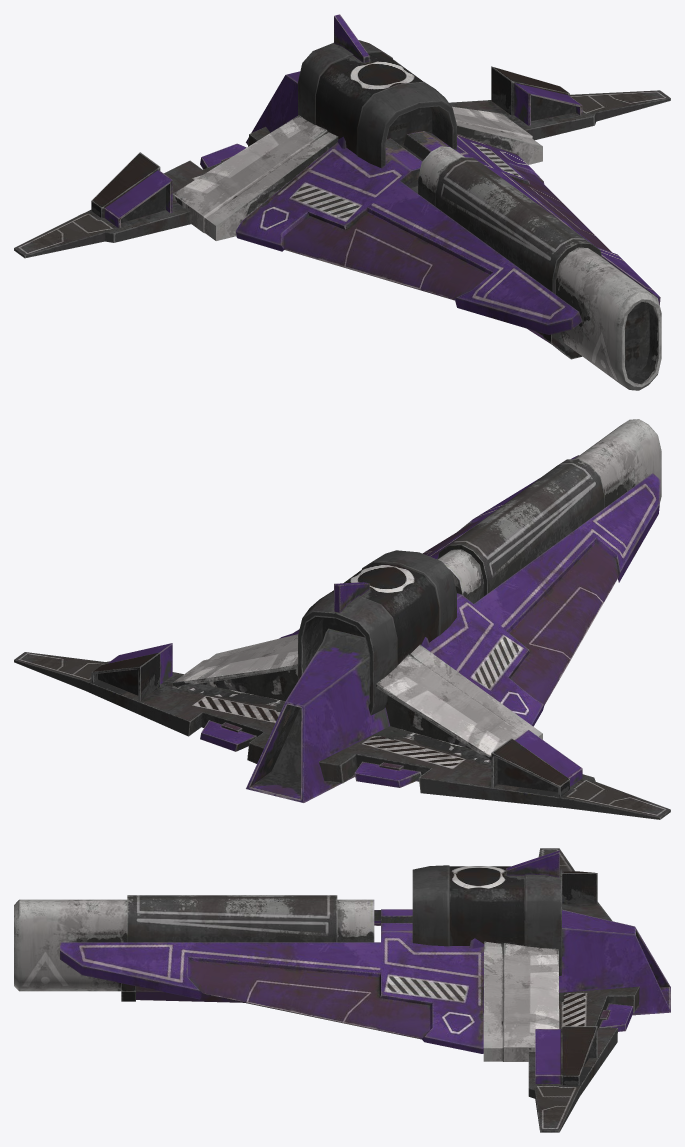
The model's file is omen_purple.glb.
3 views of the same model, one above another, from view 1: azimuth 30°, elevation 25°; view 2: azimuth 150°, elevation 25°; view 3: azimuth 270°, elevation 25° (orthographic). The views are drawn at different scales.
Visible parts, largest first — view 1: omen; view 2: omen; view 3: omen.
Boxes of the visible parts, <box> form: omen: <box>14,14,670,390</box>; omen: <box>14,419,670,819</box>; omen: <box>14,848,670,1132</box>.
Bounding box in the file's own units: 12.78 × 3.14 × 12.58.
Materials: 1 (1 with a texture image).
